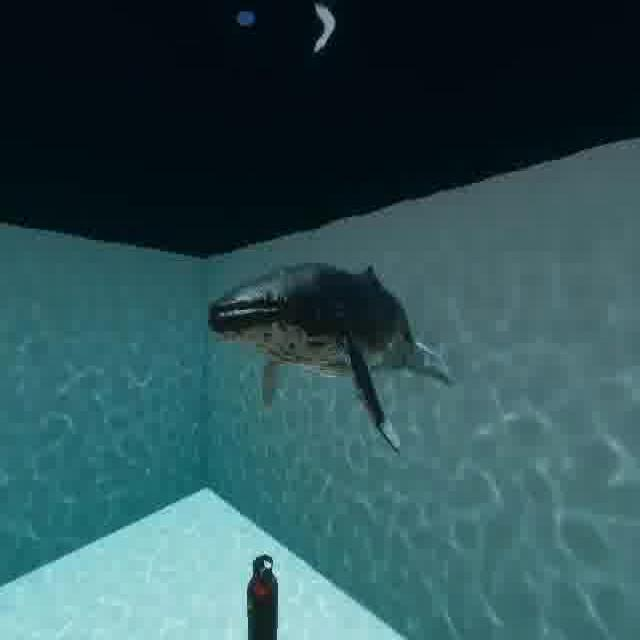Cylinder: (223, 533, 300, 640)
Whale: (198, 233, 473, 478)
